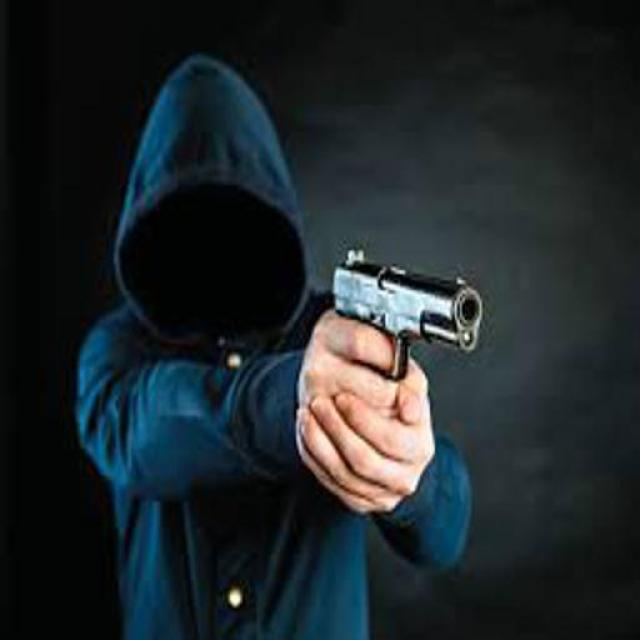pistol: (330, 243, 484, 451)
